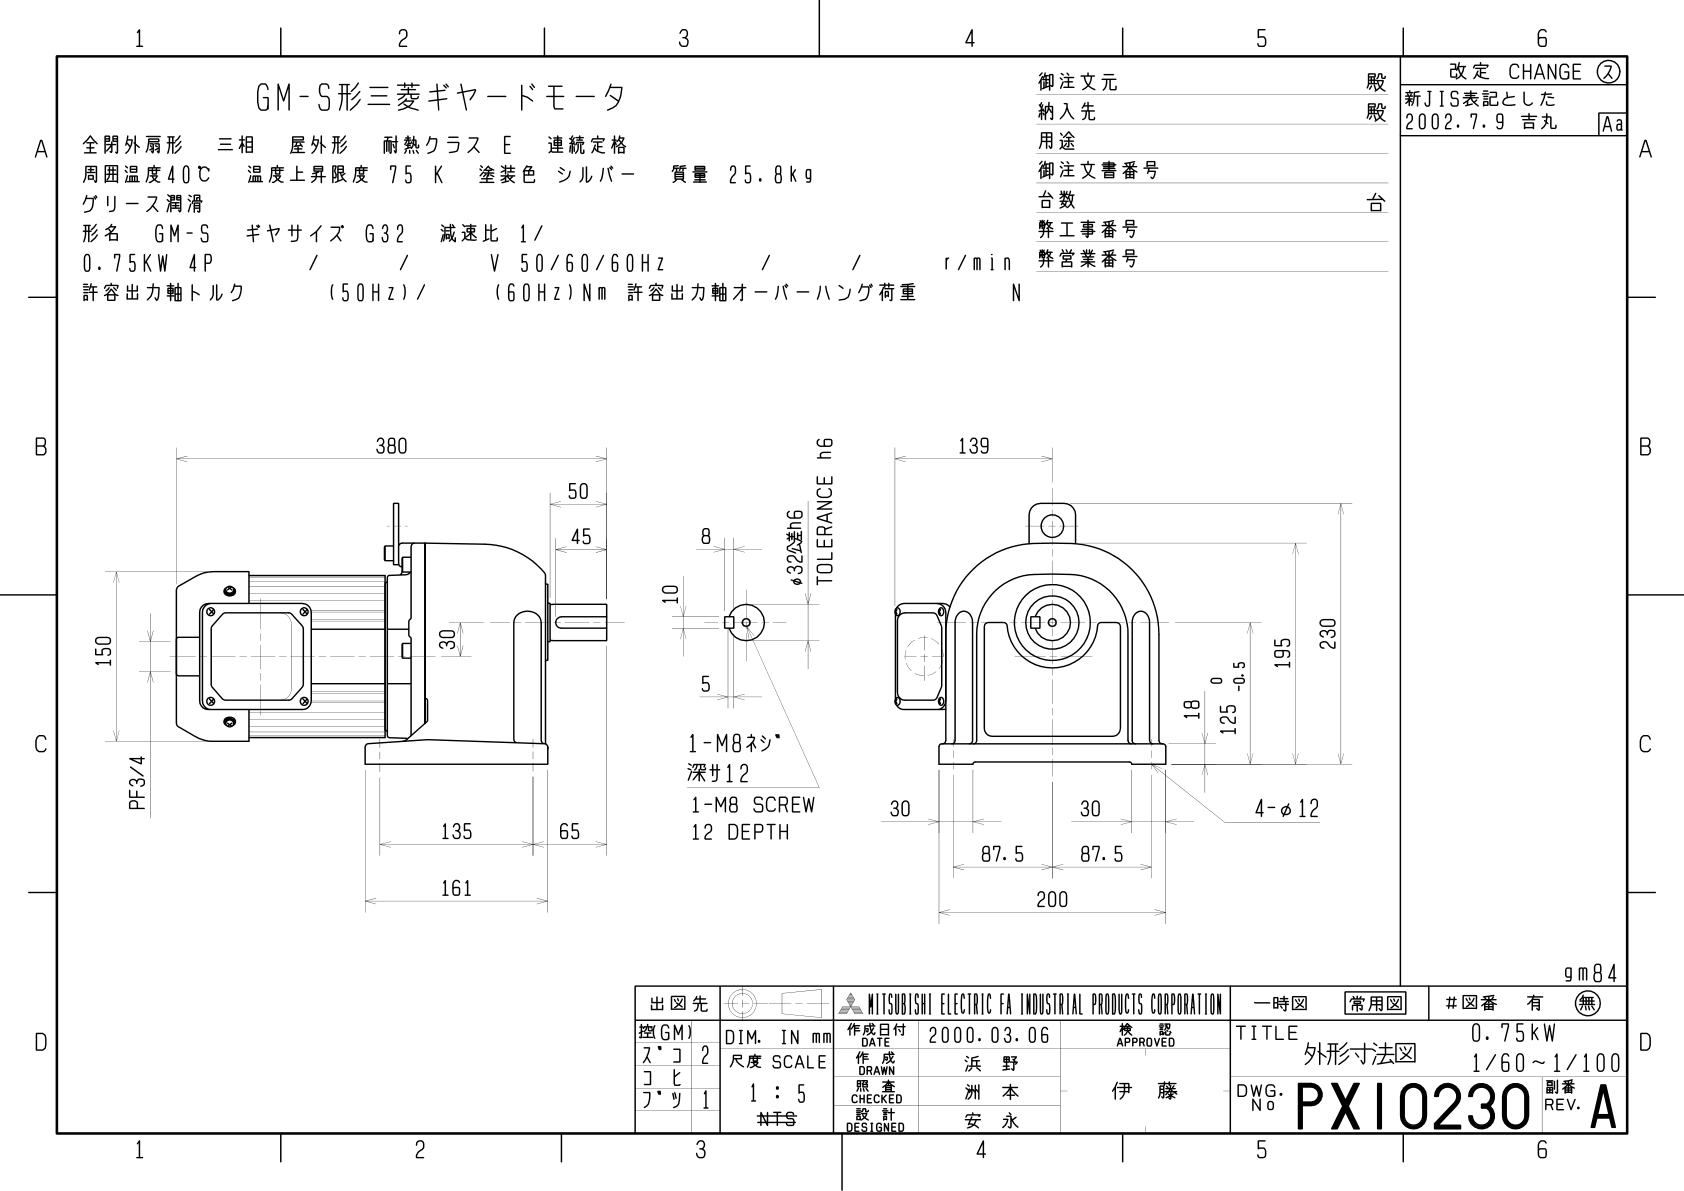GM_S_屋外＿三相_脚: (75, 388, 1383, 941)
